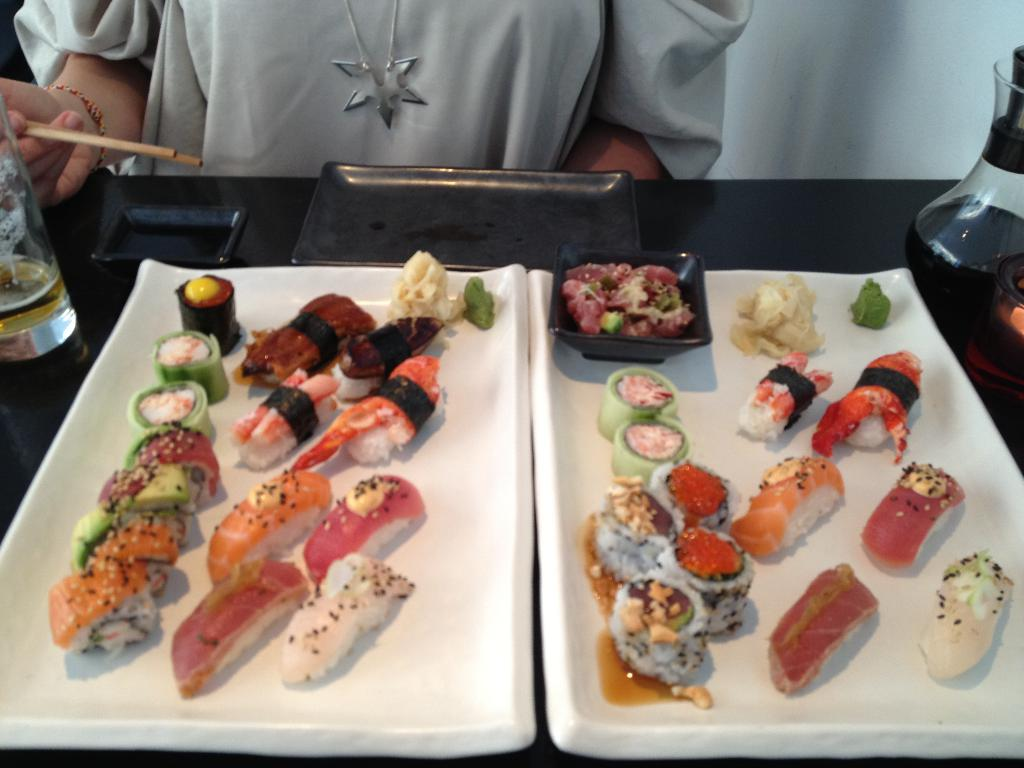sushi: (164, 296, 448, 695), (51, 271, 236, 648), (592, 364, 753, 684), (773, 568, 887, 687), (812, 349, 924, 462), (730, 451, 845, 555), (918, 555, 1011, 680), (862, 462, 966, 565), (741, 355, 830, 436)
